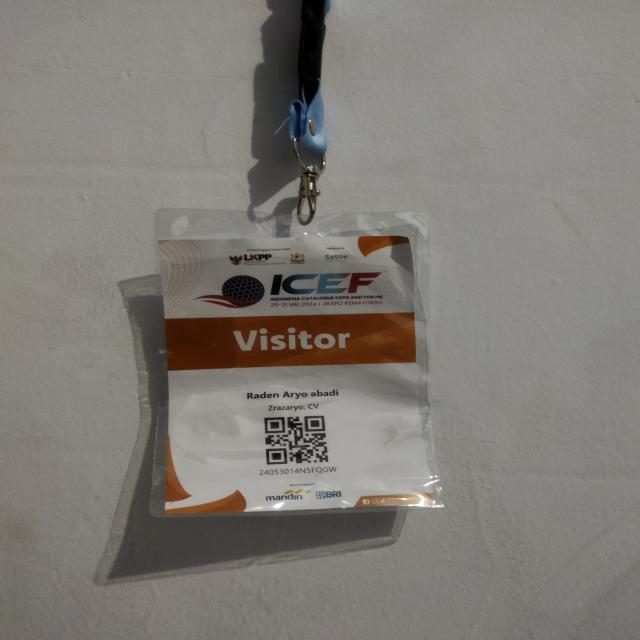ID_card: (149, 210, 445, 518)
